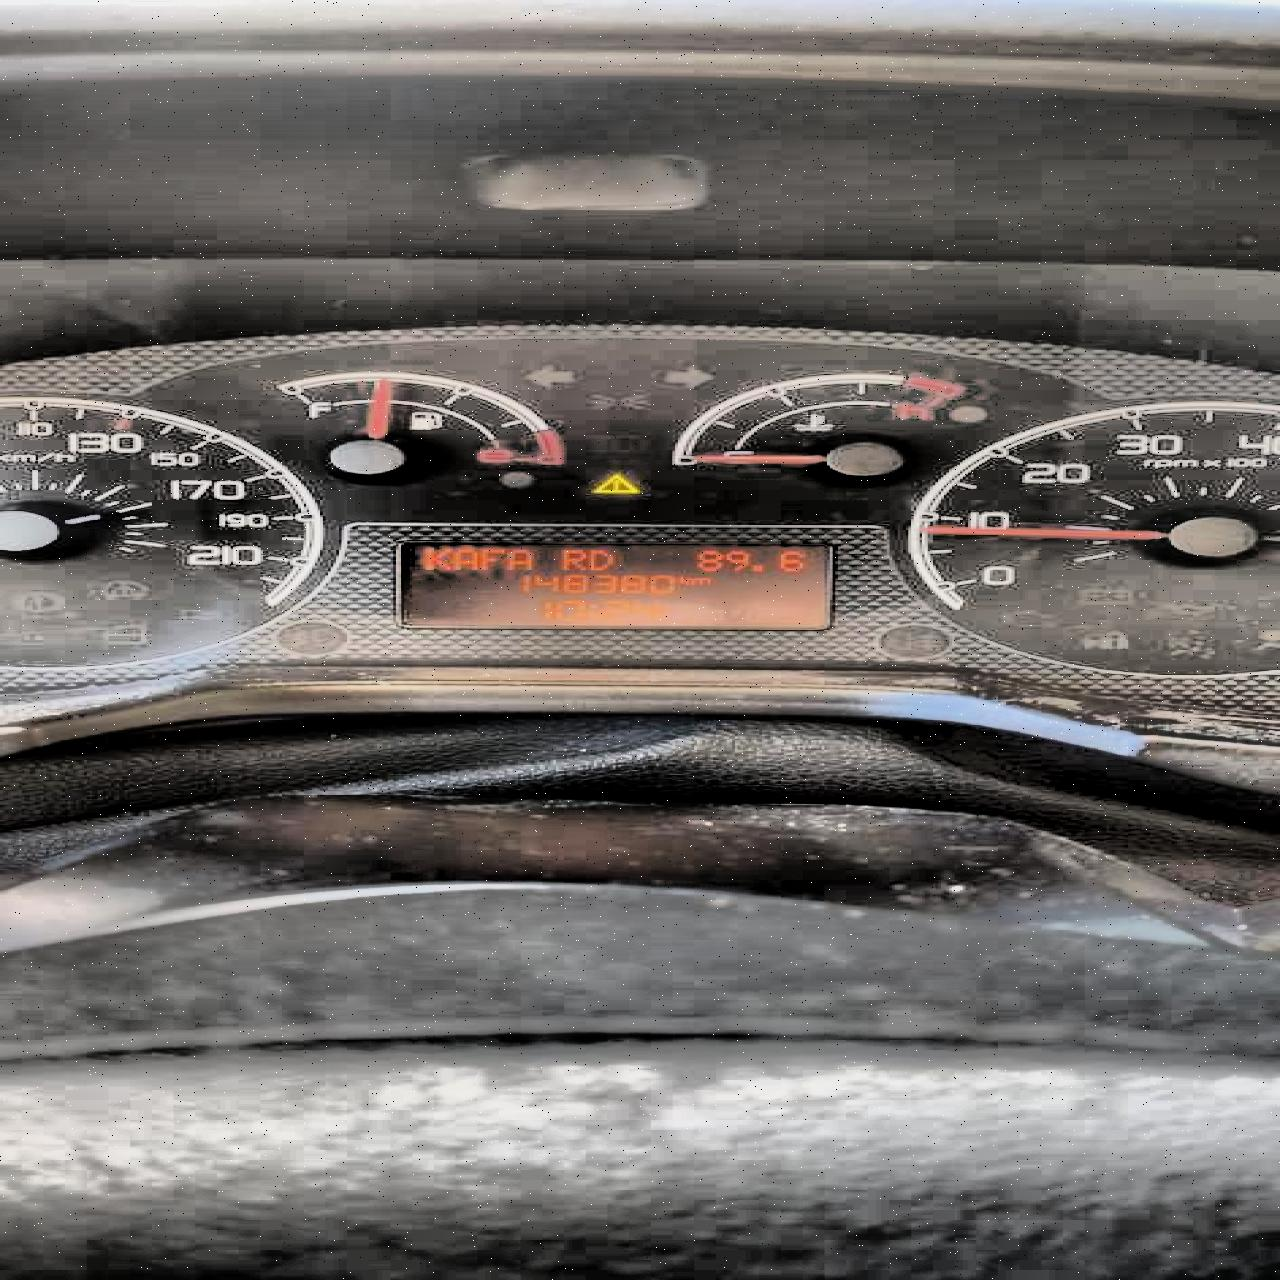-: (749, 563, 762, 572)
0: (551, 599, 584, 621), (648, 574, 673, 594)
1: (539, 599, 551, 621), (516, 574, 529, 594)
2: (597, 599, 629, 621)
3: (591, 574, 615, 594)
4: (629, 598, 665, 621), (531, 573, 558, 592)
6: (776, 549, 805, 571)
8: (692, 549, 722, 570), (615, 572, 646, 592), (558, 572, 586, 592)
9: (722, 549, 751, 571)
X: (586, 547, 615, 570), (450, 546, 477, 568), (504, 547, 531, 570), (423, 547, 450, 568), (477, 547, 504, 568), (556, 549, 583, 570), (689, 576, 713, 585), (675, 576, 689, 585)
odometer: (390, 540, 838, 629)
